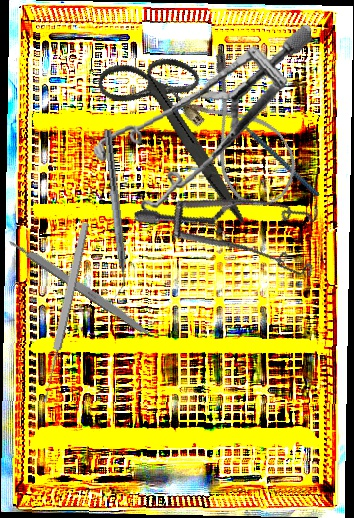Cannula: (165, 48, 311, 220)
Chopper: (222, 93, 321, 218), (92, 129, 133, 300)
Iris Scissors: (68, 35, 291, 224)
Scalpel Handle: (7, 235, 156, 340)
Speculum: (83, 24, 329, 224), (130, 154, 341, 325)
Surgical Spoon: (38, 221, 92, 404)
